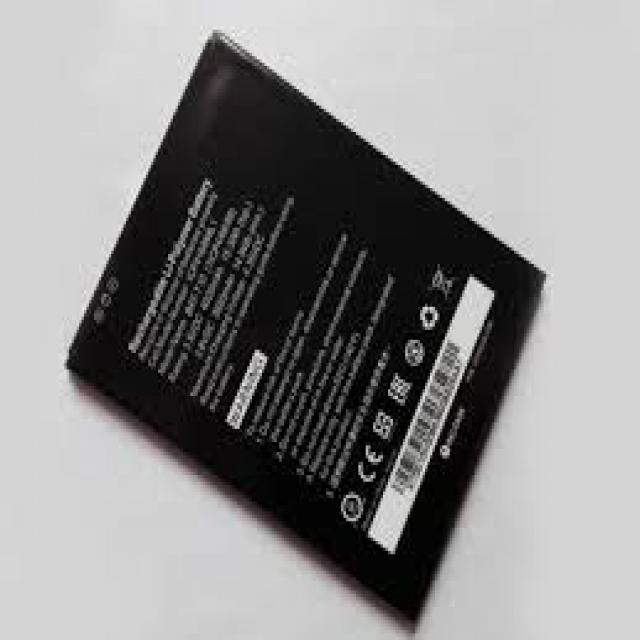non-organic waste: (68, 23, 548, 640)
